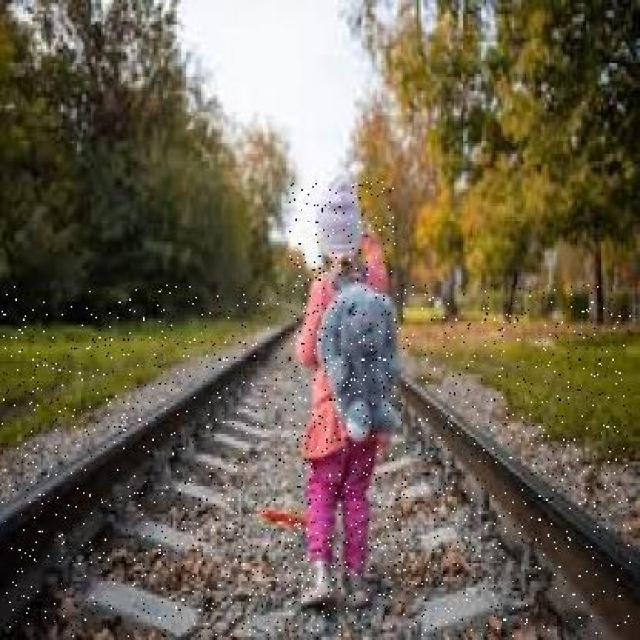danger: (289, 182, 400, 616)
rail: (2, 285, 631, 637)
